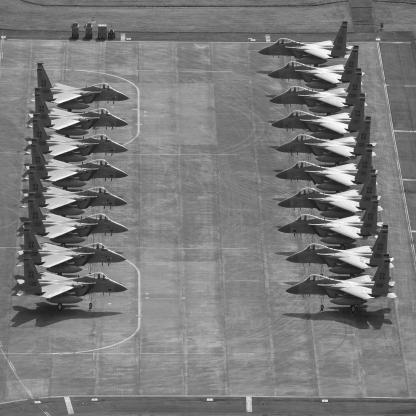F15: (17, 251, 129, 312), (286, 254, 398, 314), (22, 193, 130, 249), (18, 222, 127, 277), (287, 226, 396, 280), (279, 196, 385, 251), (22, 166, 129, 218), (25, 139, 129, 192), (279, 170, 385, 220), (276, 144, 379, 195), (277, 117, 378, 168), (30, 88, 130, 139), (27, 114, 129, 164), (32, 64, 131, 114), (270, 69, 369, 117), (272, 94, 372, 141), (268, 46, 366, 92), (259, 22, 354, 68)
